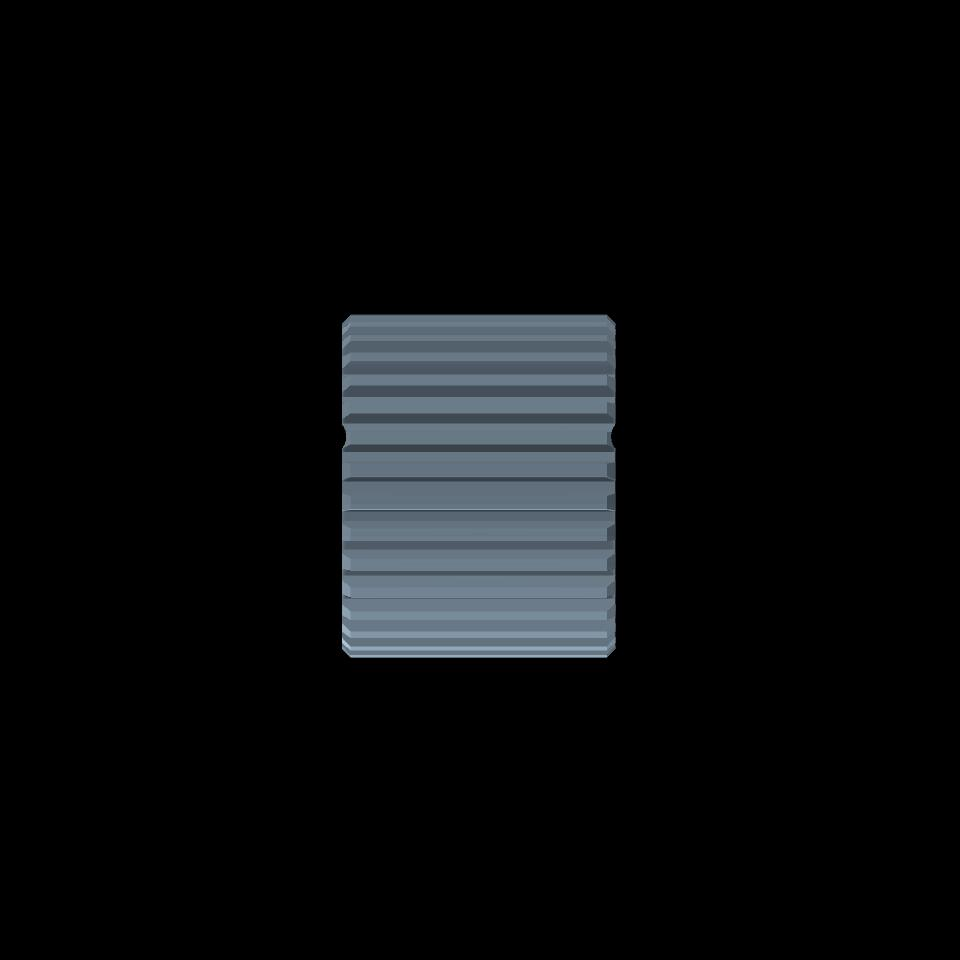Straight: (349, 315, 606, 655)
